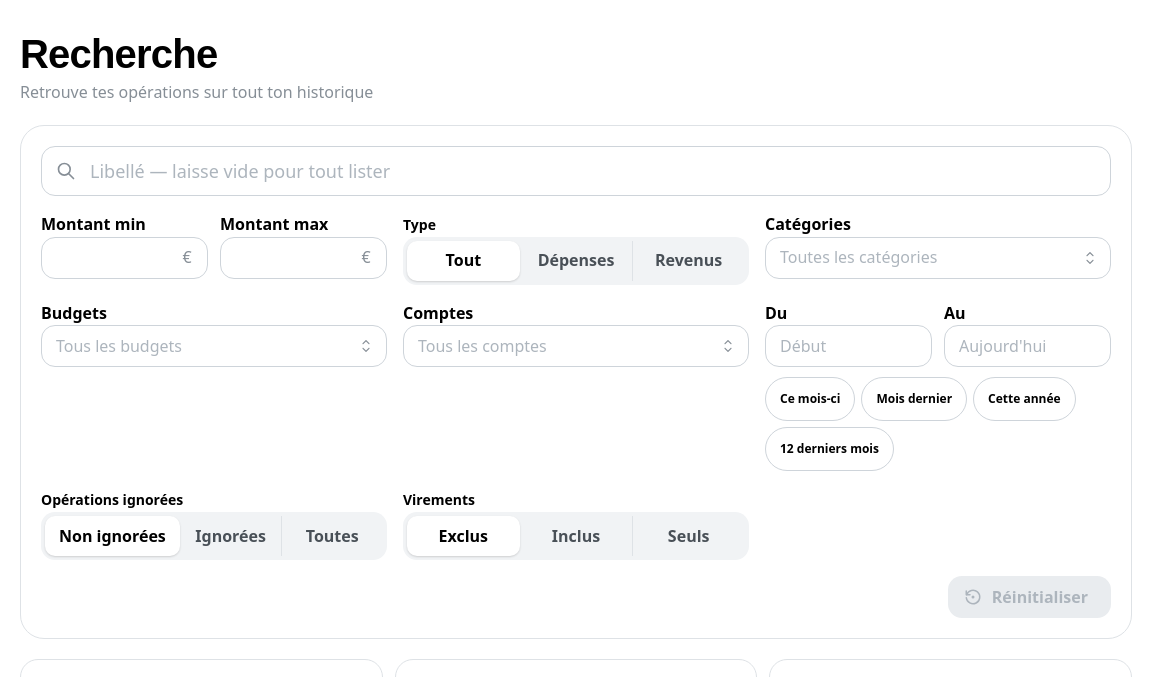
it: SearchPage › does not send an invalid amount
Type "abc" into the field labelled "Montant min". click: [124, 258]
box: [41,237,208,279]
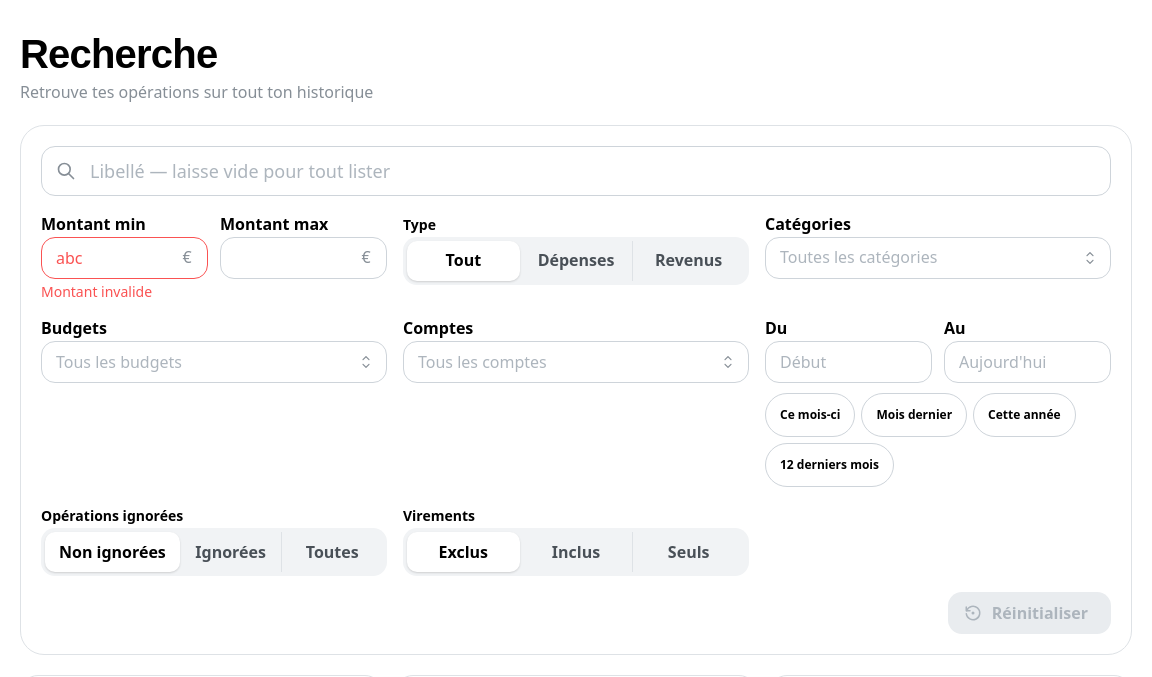
Check: the text "Montant invalide" is shown, box [41,282,152,301]
